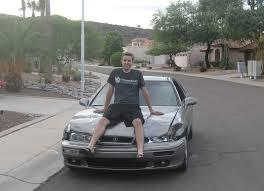Bonnet: (144, 106, 182, 142), (67, 108, 96, 137), (167, 107, 191, 141)
Light: (145, 135, 179, 142)
